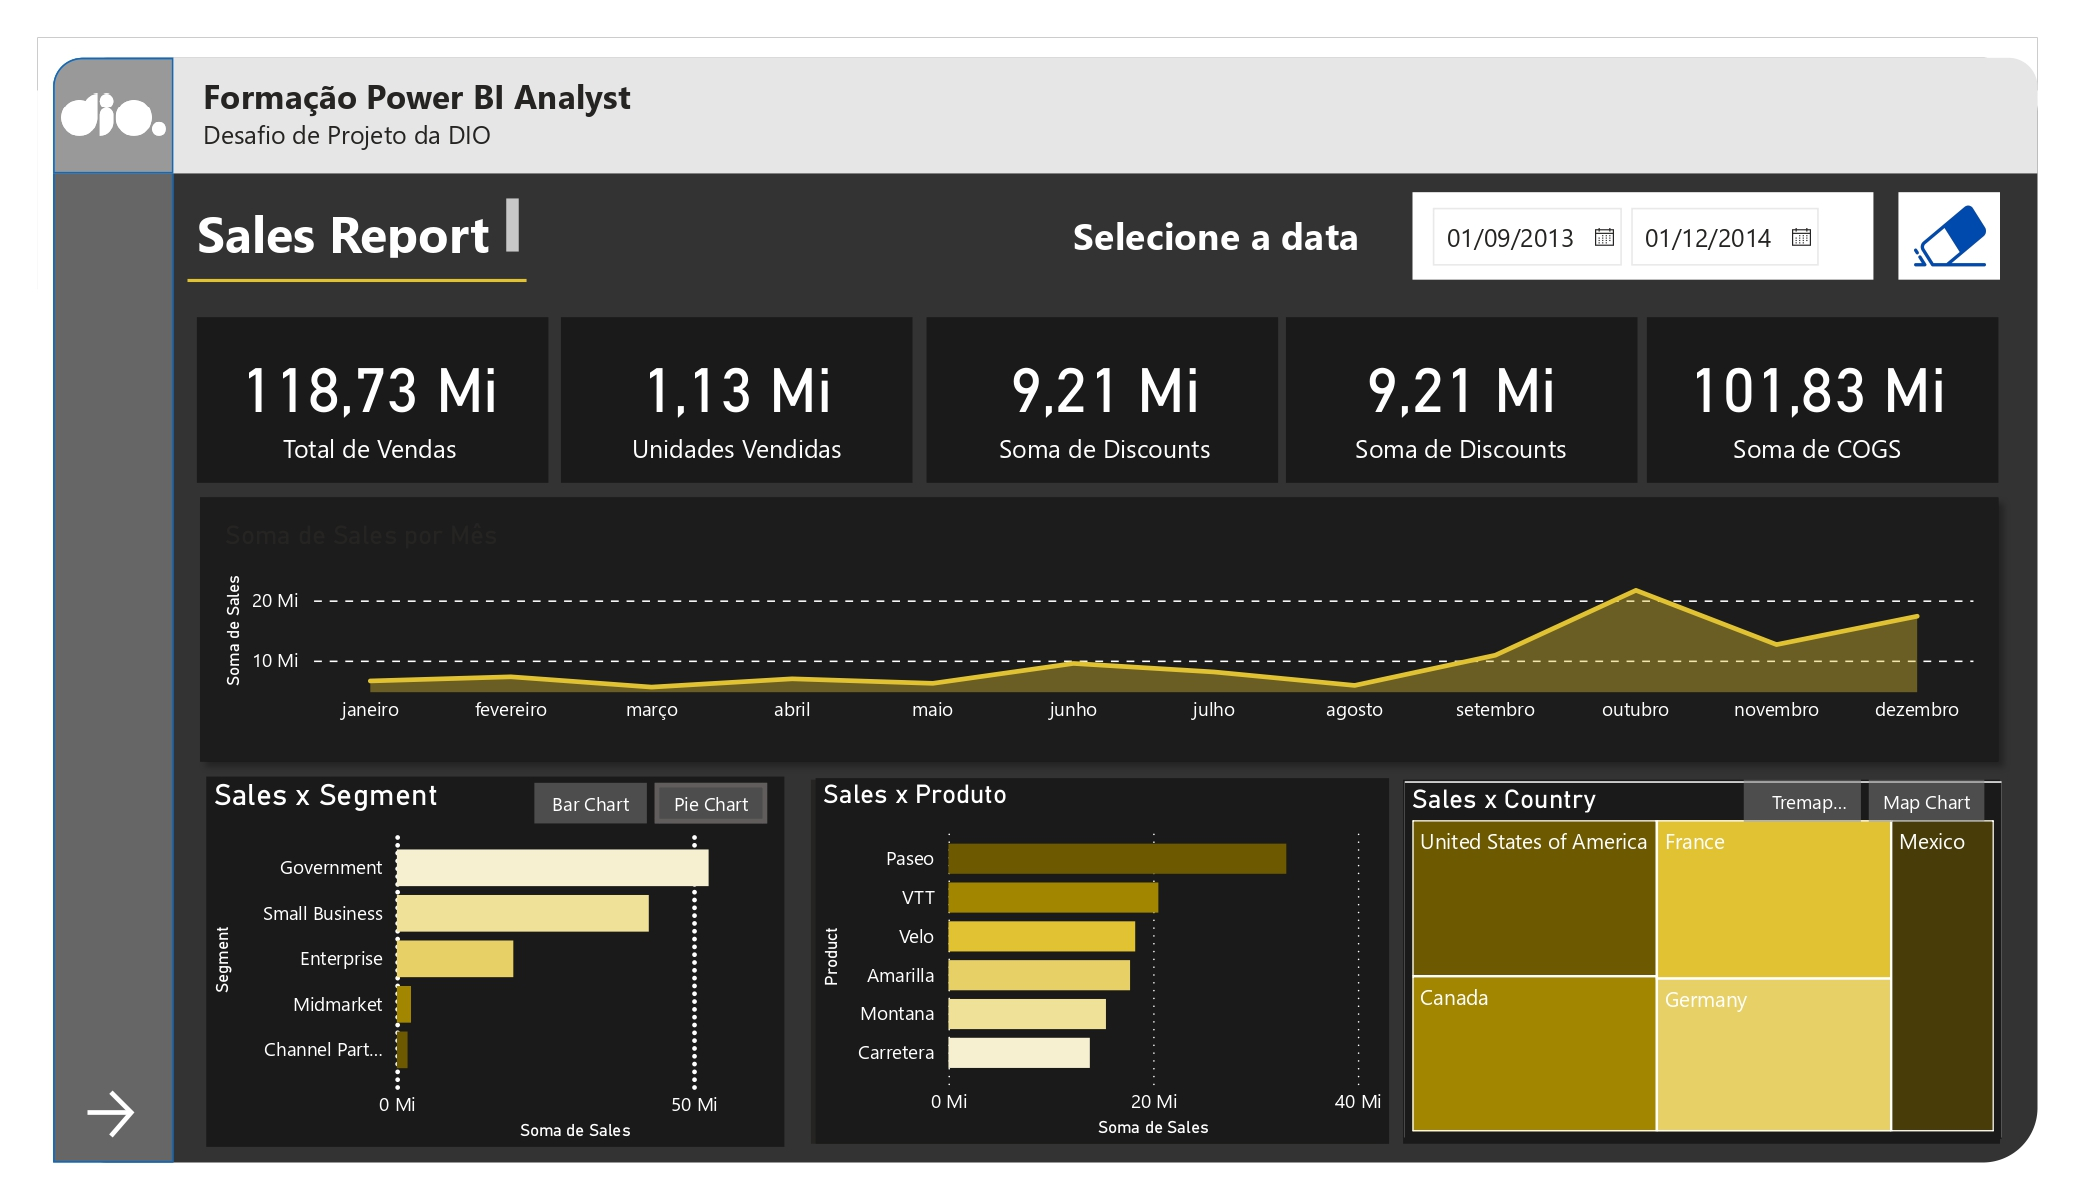

This screenshot's page, from the dashboard's own definition file:
{"tool":"powerbi","page":{"name":"Página 1","canvas":[1280,720],"ordinal":0},"visuals":[{"type":"shape","box":[10,12.8,1270,707],"z":0},{"type":"slicer","fields":{"Values":["financials.Date"]},"box":[880.5,99.4,294.9,56.2],"z":0,"group":"g2"},{"type":"shape","box":[95.5,139.7,216.7,32.8],"z":0,"group":"g5"},{"type":"shape","box":[102.2,178.6,225.1,106.3],"z":0,"group":"g1"},{"type":"map","title":"Sales x Country","fields":{"Category":["financials.Country"],"Size":["Sum(financials. Sales)"]},"box":[875,475.9,382,228.1],"z":0,"group":"g3"},{"type":"clusteredBarChart","title":"Sales x Segment","fields":{"Category":["financials.Segment"],"Y":["Sum(financials. Sales)"]},"box":[107.7,472.3,370.4,237],"z":250,"group":"g4"},{"type":"actionButton","title":"Botão - bar","box":[317.6,476.4,72.2,26.7],"z":500,"group":"g4"},{"type":"actionButton","title":"Botão -pie","box":[394.9,476.4,72.2,26.7],"z":750,"group":"g4"},{"type":"shape","box":[10.1,13.4,77.2,706.3],"z":1000},{"type":"textbox","box":[96.9,98.4,215.2,48.5],"z":1000,"group":"g5"},{"type":"textbox","box":[658.1,105.2,216.2,46.1],"z":1000,"group":"g2"},{"type":"shape","box":[335.4,178.6,225.1,106.3],"z":1000,"group":"g1"},{"type":"treemap","title":"Sales x Country","fields":{"Group":["financials.Country"],"Values":["Sum(financials. Sales)"]},"box":[875,477.4,382,228.1],"z":1000,"group":"g3"},{"type":"actionButton","title":"Botão - map","box":[1172,475.1,74.5,26.6],"z":1250,"group":"g3"},{"type":"actionButton","title":"Botão - tremap","box":[1092.1,475.1,74.5,26.6],"z":1500,"group":"g3"},{"type":"shape","box":[10.1,13.4,77.2,73.8],"z":2000},{"type":"actionButton","box":[1190.8,103.7,64.9,51.8],"z":2000,"group":"g2"},{"type":"shape","box":[568.8,178.6,225.1,106.3],"z":2000,"group":"g1"},{"type":"image","title":"logo_dio","box":[10.1,18.5,77.2,62.1],"z":3000},{"type":"image","title":"clean","box":[1190.8,99.4,64.9,56.2],"z":3000,"group":"g2"},{"type":"shape","box":[798.9,178.6,225.1,106.3],"z":3000,"group":"g1"},{"type":"shape","box":[86.9,12.8,1193.1,74.1],"z":4000},{"type":"shape","box":[1030.6,178.6,225.1,106.3],"z":4000,"group":"g1"},{"type":"textbox","box":[100.7,18.5,365.7,68.8],"z":5000},{"type":"card","fields":{"Values":["Sum(financials. Sales)"]},"box":[107.9,179,209.6,106.1],"z":5000,"group":"g1"},{"type":"group","id":"g1","title":"Cartões","box":[102.2,178.6,1153.4,106.6],"z":6000},{"type":"card","fields":{"Values":["Sum(financials.Units Sold)"]},"box":[343,179,209.6,106.1],"z":6000,"group":"g1"},{"type":"card","fields":{"Values":["Sum(financials.Discounts)"]},"box":[806.2,179,209.6,106.1],"z":7000,"group":"g1"},{"type":"shape","box":[95,285.1,1169.3,187.2],"z":7000},{"type":"card","fields":{"Values":["Sum(financials.Discounts)"]},"box":[578.2,179,209.6,106.1],"z":8000,"group":"g1"},{"type":"shape","box":[494.6,474.7,370.6,233.8],"z":8000},{"type":"card","fields":{"Values":["Sum(financials.COGS)"]},"box":[1034.3,179,209.6,106.1],"z":9000,"group":"g1"},{"type":"shape","box":[873.8,474.7,382,233.8],"z":9000},{"type":"areaChart","fields":{"Category":["financials.Date.Variation.Hierarquia de datas.Mês"],"Y":["Sum(financials. Sales)"]},"box":[115.2,308.2,1129,139.7],"z":10000},{"type":"clusteredBarChart","title":"Sales x Produto","fields":{"Y":["Sum(financials. Sales)"],"Category":["financials.Product"]},"box":[498.3,474.5,366.9,233.8],"z":11000},{"type":"group","id":"g2","title":"Filtro por data","box":[658.1,99.4,597.6,56.2],"z":12000},{"type":"group","id":"g3","title":"Sales x país","box":[875,475.1,382.8,230.7],"z":13000},{"type":"group","id":"g4","title":"Sales x Segmento","box":[107.7,471.7,370.8,237.5],"z":14000},{"type":"group","id":"g5","title":"Title report","box":[95.5,98.4,216.7,74.1],"z":15000},{"type":"actionButton","box":[25.9,669,48.8,39.6],"z":16000}]}

Visuals, with their boxes on the page's 1280x720 design canvas (x1, y1, x2, y2). These are canvas units, not pixel positions in the 2075x1200 screenshot, which may show the page scaled, cropped or inside an application window:
shape: detection(10, 13, 1280, 720)
slicer - financials.Date: detection(880, 99, 1175, 156)
shape: detection(96, 140, 312, 172)
shape: detection(102, 179, 327, 285)
"Sales x Country" map: detection(875, 476, 1257, 704)
"Sales x Segment" clusteredBarChart: detection(108, 472, 478, 709)
"Botão - bar" actionButton: detection(318, 476, 390, 503)
"Botão -pie" actionButton: detection(395, 476, 467, 503)
shape: detection(10, 13, 87, 720)
textbox: detection(97, 98, 312, 147)
textbox: detection(658, 105, 874, 151)
shape: detection(335, 179, 560, 285)
"Sales x Country" treemap: detection(875, 477, 1257, 706)
"Botão - map" actionButton: detection(1172, 475, 1246, 502)
"Botão - tremap" actionButton: detection(1092, 475, 1167, 502)
shape: detection(10, 13, 87, 87)
actionButton: detection(1191, 104, 1256, 156)
shape: detection(569, 179, 794, 285)
"logo_dio" image: detection(10, 18, 87, 81)
"clean" image: detection(1191, 99, 1256, 156)
shape: detection(799, 179, 1024, 285)
shape: detection(87, 13, 1280, 87)
shape: detection(1031, 179, 1256, 285)
textbox: detection(101, 18, 466, 87)
card - Sum(financials. Sales): detection(108, 179, 318, 285)
"Cartões" group: detection(102, 179, 1256, 285)
card - Sum(financials.Units Sold): detection(343, 179, 553, 285)
card - Sum(financials.Discounts): detection(806, 179, 1016, 285)
shape: detection(95, 285, 1264, 472)
card - Sum(financials.Discounts): detection(578, 179, 788, 285)
shape: detection(495, 475, 865, 708)
card - Sum(financials.COGS): detection(1034, 179, 1244, 285)
shape: detection(874, 475, 1256, 708)
areaChart - financials.Date.Variation.Hierarquia de datas.Mês x Sum(financials. Sales): detection(115, 308, 1244, 448)
"Sales x Produto" clusteredBarChart: detection(498, 474, 865, 708)
"Filtro por data" group: detection(658, 99, 1256, 156)
"Sales x país" group: detection(875, 475, 1258, 706)
"Sales x Segmento" group: detection(108, 472, 478, 709)
"Title report" group: detection(96, 98, 312, 172)
actionButton: detection(26, 669, 75, 709)
